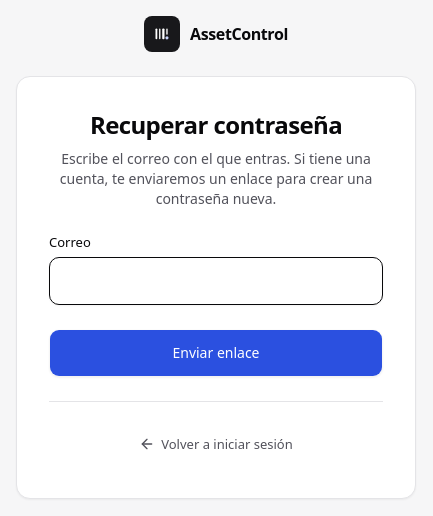
Test case: /recuperar › el mensaje es el mismo para cualquier 202 y nunca repite el correo
Later steps or results of the test are not shown.
In the field labelled "Correo": point(216, 280) top-left (49, 256), bottom-right (383, 304), type "nadie.sabe@ejemplo.test"
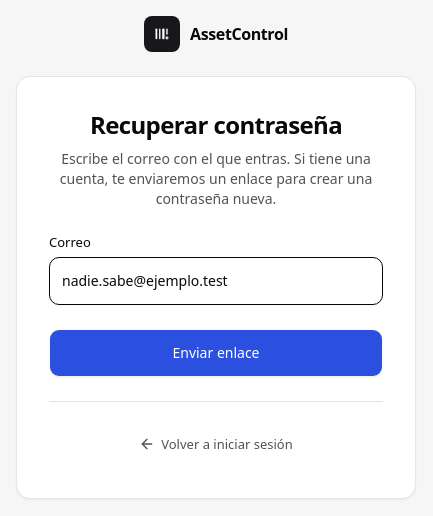
Click the button "Enviar enlace": point(216, 352) top-left (49, 328), bottom-right (383, 376)
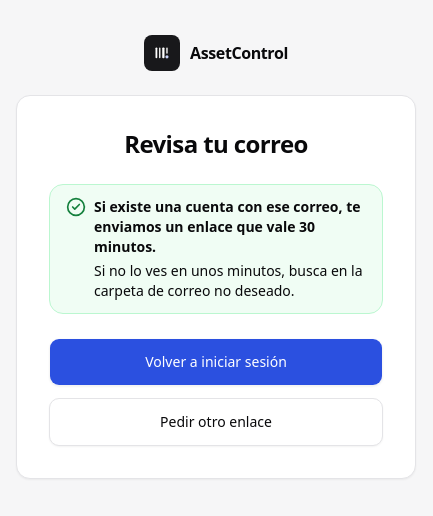
Now the message shows "Si existe una cuenta con ese correo, te enviamos un enlace que vale 30 minutos.", box top-left (94, 197), bottom-right (360, 256)
